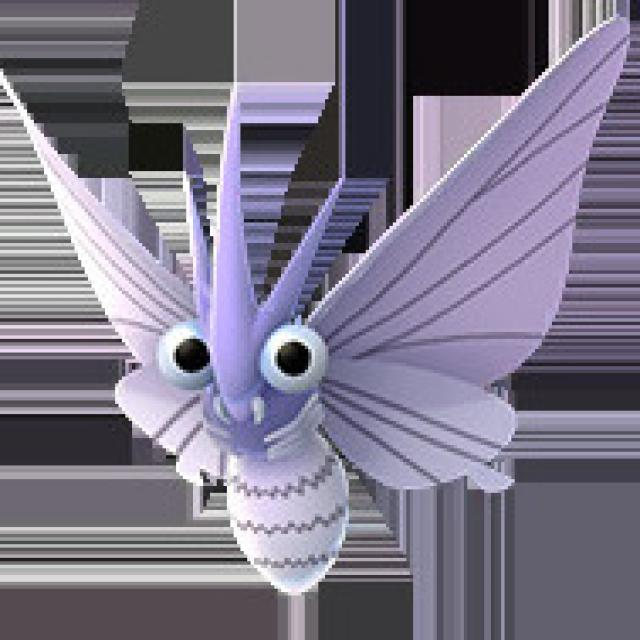Venomoth: (96, 86, 474, 608)
